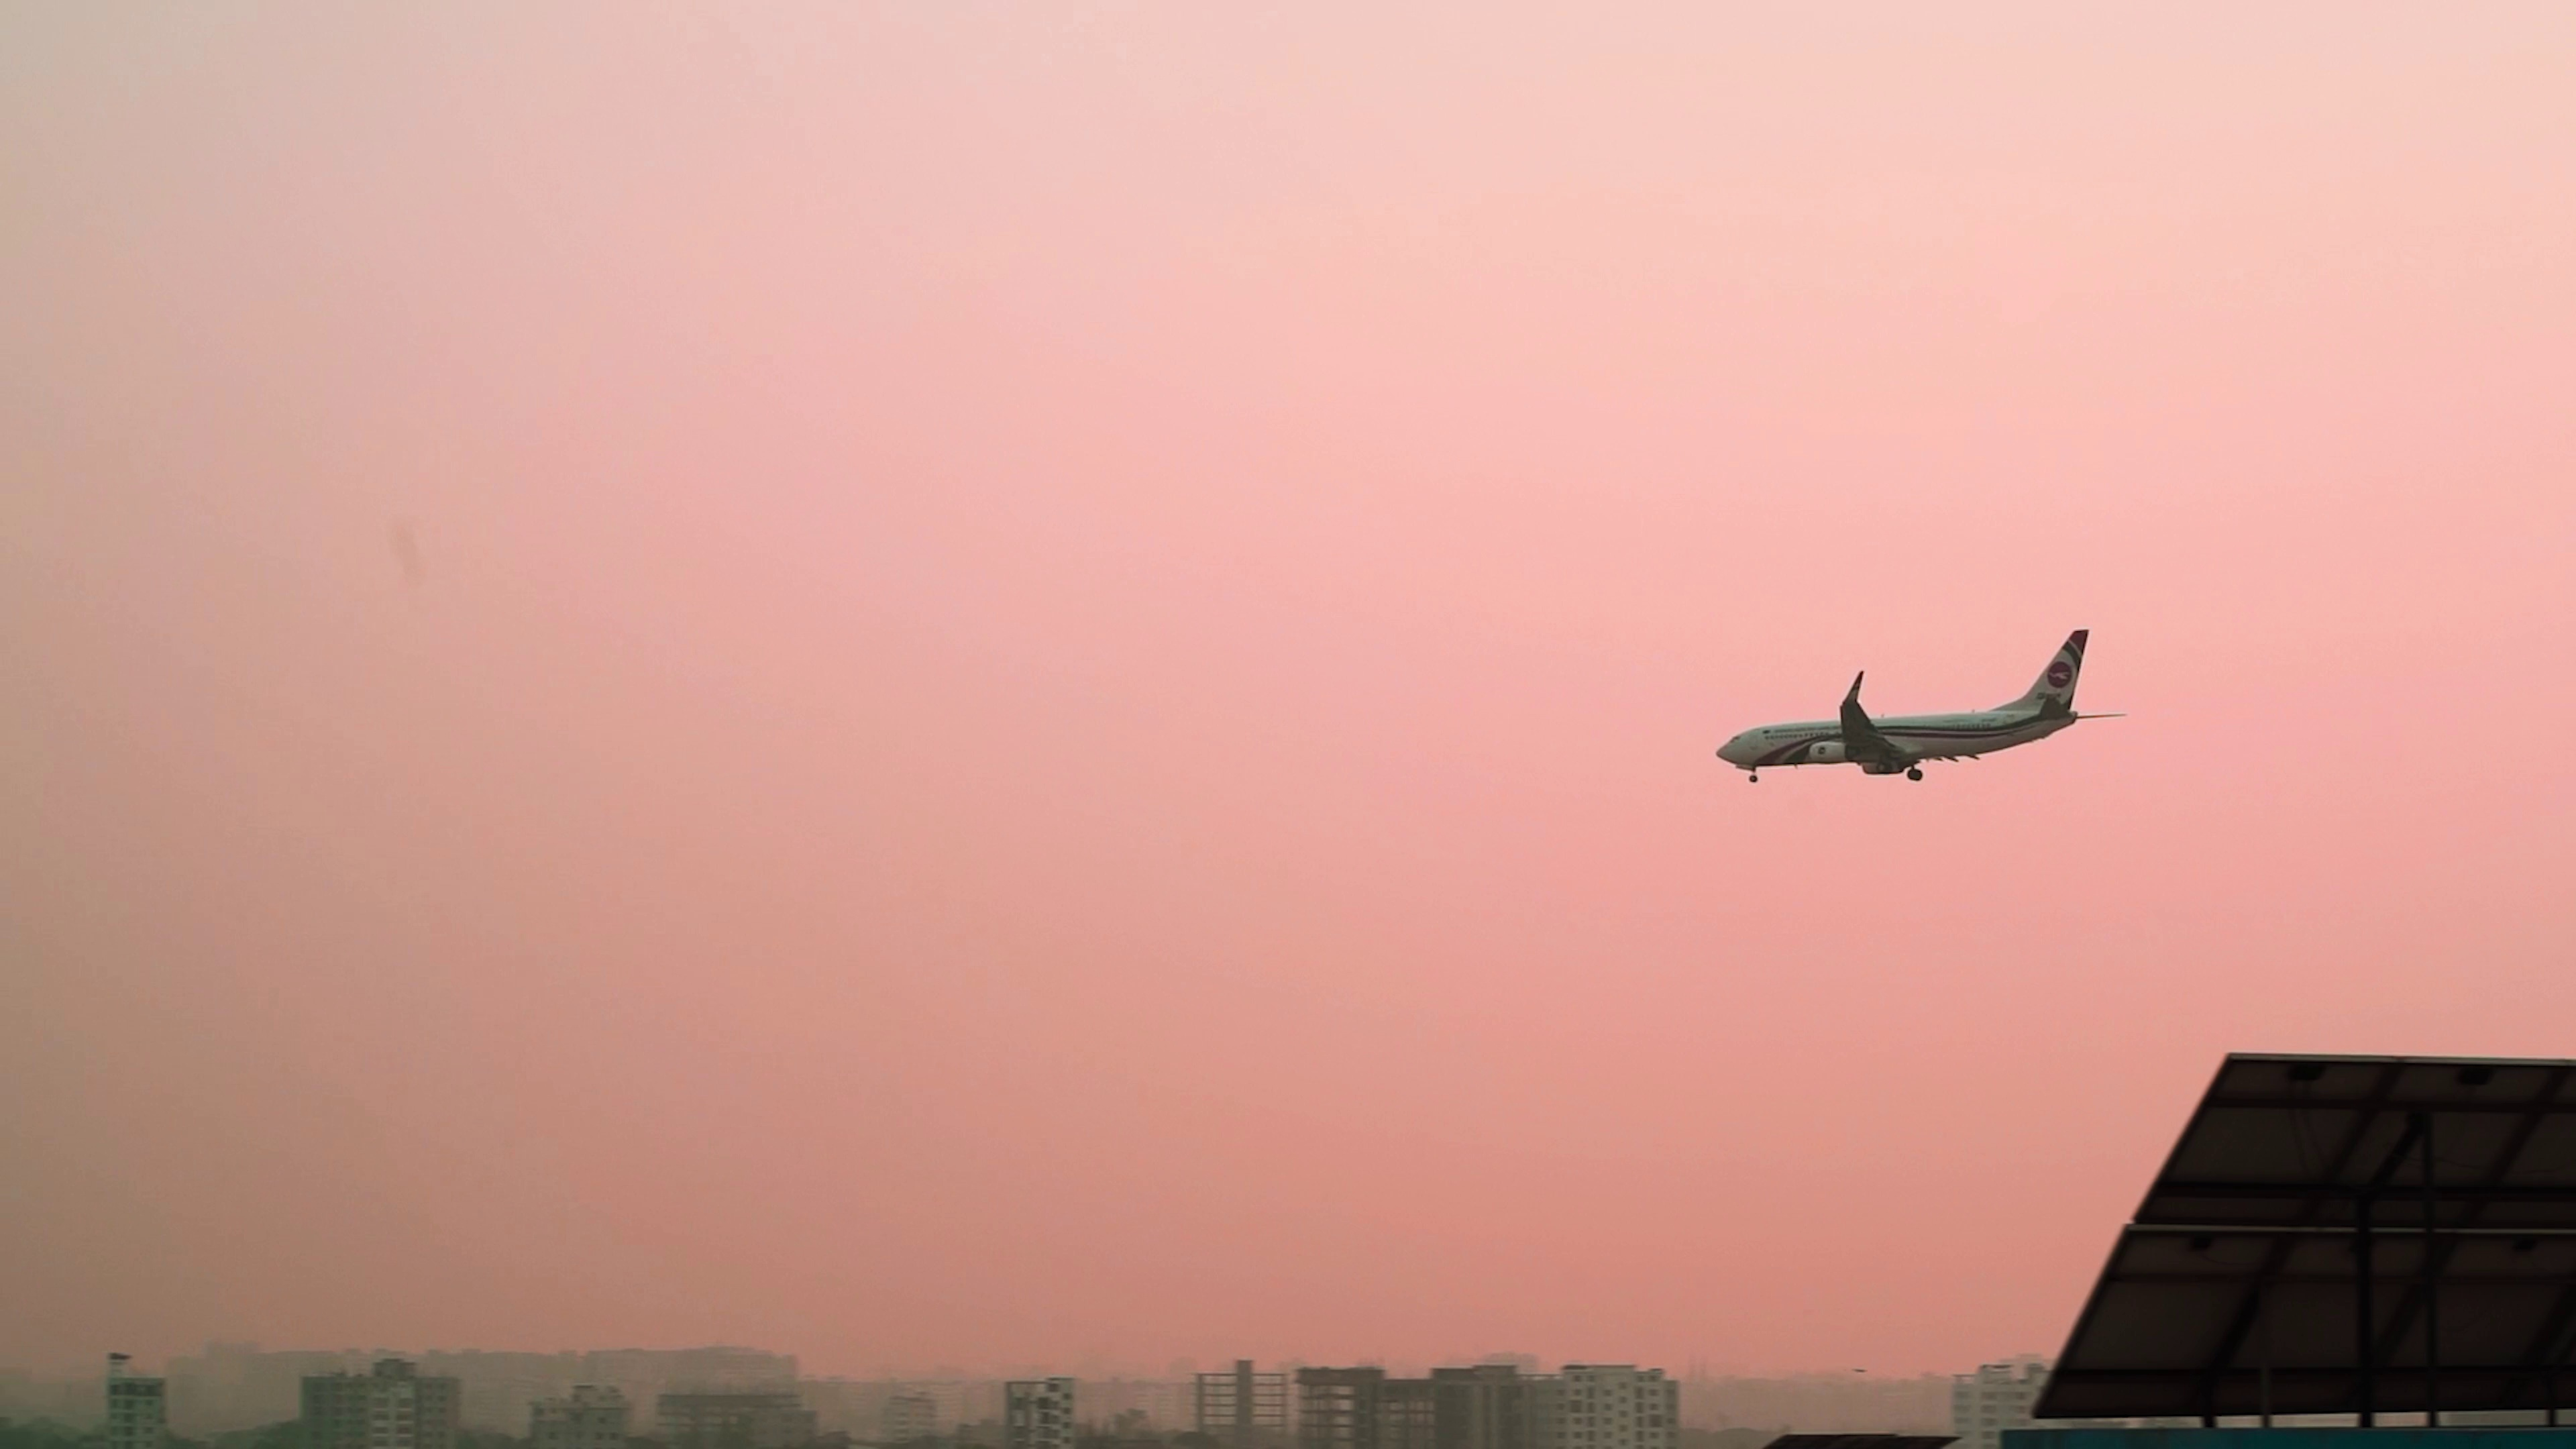plane: (1716, 628, 2128, 782)
